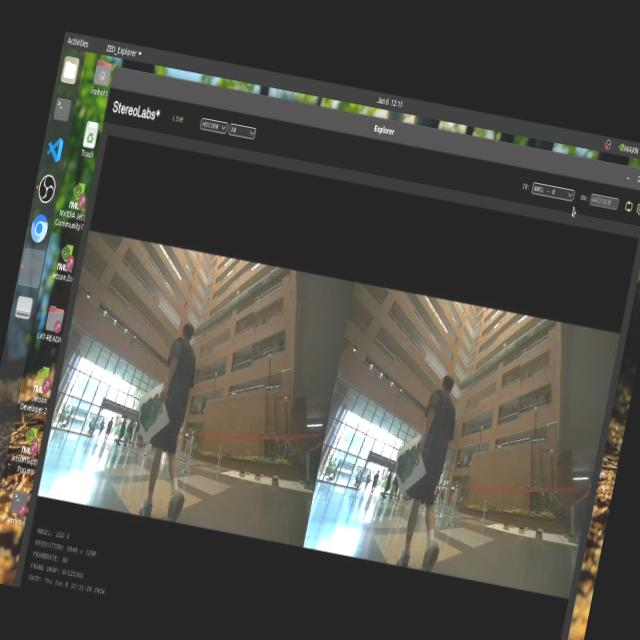green: (382, 435, 433, 494), (134, 384, 178, 442)
